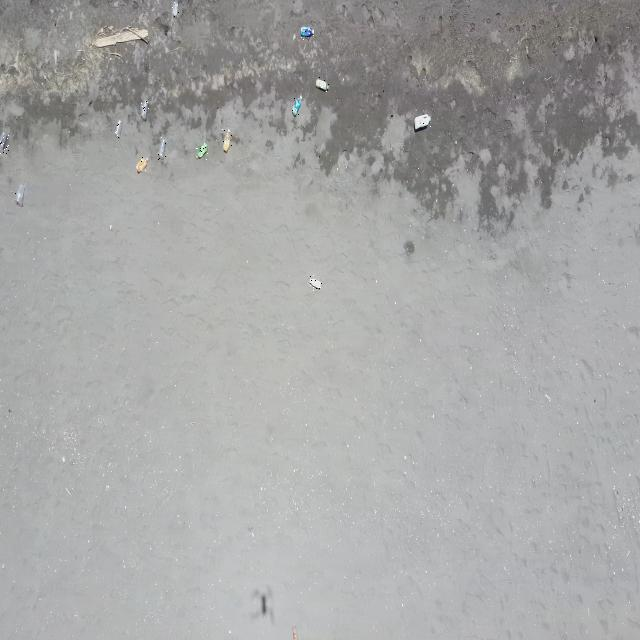plastic-bottle: (414, 113, 432, 133), (315, 77, 331, 92), (292, 94, 302, 118), (222, 129, 232, 153), (195, 143, 208, 161), (136, 156, 148, 174), (300, 26, 315, 40), (309, 274, 322, 290)
takeaway-cup: (15, 182, 26, 207), (0, 132, 9, 154), (158, 137, 166, 160), (141, 98, 149, 120), (114, 120, 122, 140), (172, 0, 179, 19)
